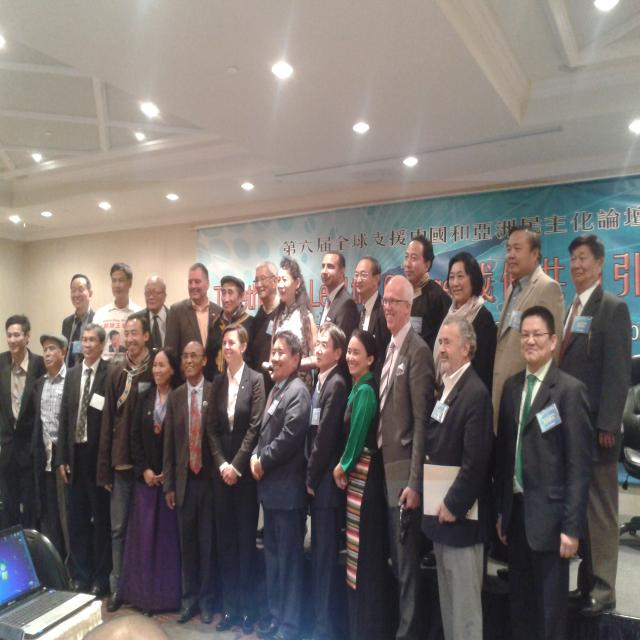body: (495, 304, 593, 640), (556, 233, 632, 618), (421, 314, 493, 640), (374, 274, 438, 640), (248, 327, 314, 640), (116, 343, 188, 619), (204, 321, 266, 636), (94, 312, 158, 614), (159, 339, 217, 626), (490, 225, 566, 444), (55, 321, 114, 600), (302, 319, 350, 640), (333, 327, 381, 640), (0, 314, 47, 535), (432, 251, 498, 401), (29, 331, 71, 562), (163, 262, 224, 389), (267, 255, 319, 402), (312, 250, 360, 395), (402, 234, 453, 355), (205, 275, 257, 380), (92, 262, 144, 365), (243, 261, 281, 400), (352, 255, 392, 384), (60, 273, 105, 368), (125, 276, 173, 352), (107, 328, 125, 356)
